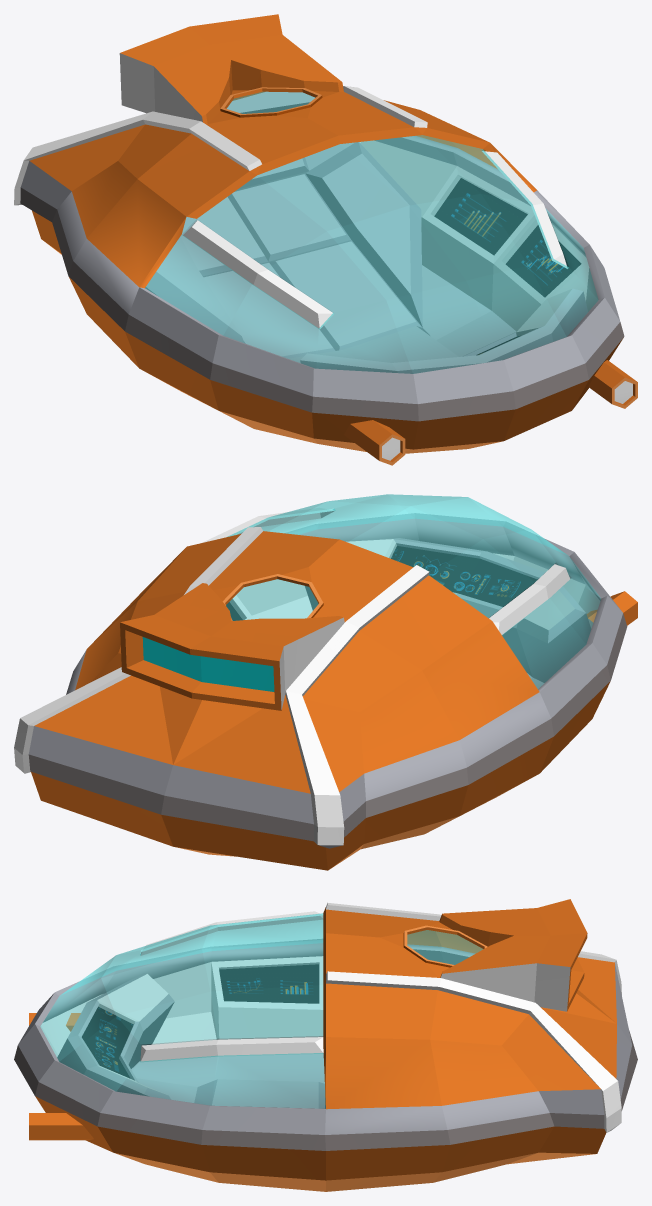
File: spaceship2.glb
3 views of the same model, one above another, from view 1: azimuth 30°, elevation 25°; view 2: azimuth 150°, elevation 25°; view 3: azimuth 270°, elevation 25° (orthographic). The views are drawn at different scales.
Visible parts, largest first — view 1: SpaceShip_01; view 2: SpaceShip_01; view 3: SpaceShip_01.
Boxes of the visible parts, x1,y1,x2,y2 form: SpaceShip_01: [14, 14, 637, 465]; SpaceShip_01: [14, 494, 637, 870]; SpaceShip_01: [14, 899, 637, 1191].
Size of what is drawn, in the model's own units: 3.51 by 1.93 by 5.06.
4 materials, 4 textured.
